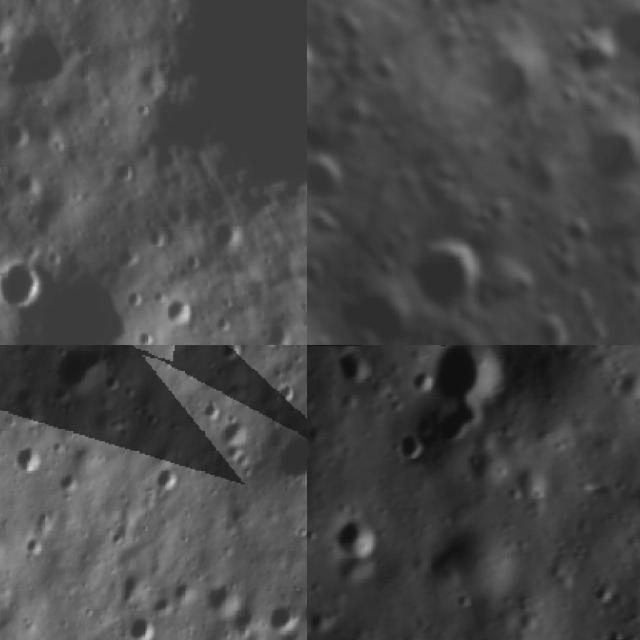crater: (127, 0, 307, 197), (391, 220, 502, 334), (1, 264, 155, 345), (456, 29, 556, 132), (322, 266, 424, 345), (564, 103, 640, 206), (556, 18, 631, 92), (420, 345, 514, 398), (8, 22, 69, 100), (587, 0, 640, 83), (41, 345, 114, 401), (307, 140, 359, 215), (428, 398, 494, 449), (196, 570, 247, 624), (271, 421, 307, 496), (0, 253, 47, 308), (328, 515, 384, 560), (550, 206, 600, 255), (261, 598, 304, 640), (365, 51, 406, 94), (213, 414, 255, 455), (222, 597, 262, 636), (453, 0, 520, 23), (207, 214, 247, 251), (337, 349, 374, 389), (159, 293, 197, 331), (463, 202, 502, 239), (12, 439, 47, 479), (120, 609, 163, 640), (388, 429, 422, 468), (9, 169, 45, 205), (20, 527, 54, 565), (150, 461, 186, 495), (307, 604, 341, 640), (270, 373, 303, 408), (611, 368, 640, 405), (2, 116, 28, 156), (100, 369, 130, 403), (52, 467, 84, 498), (216, 345, 247, 367), (111, 345, 147, 352), (370, 632, 397, 640), (257, 345, 283, 351)
